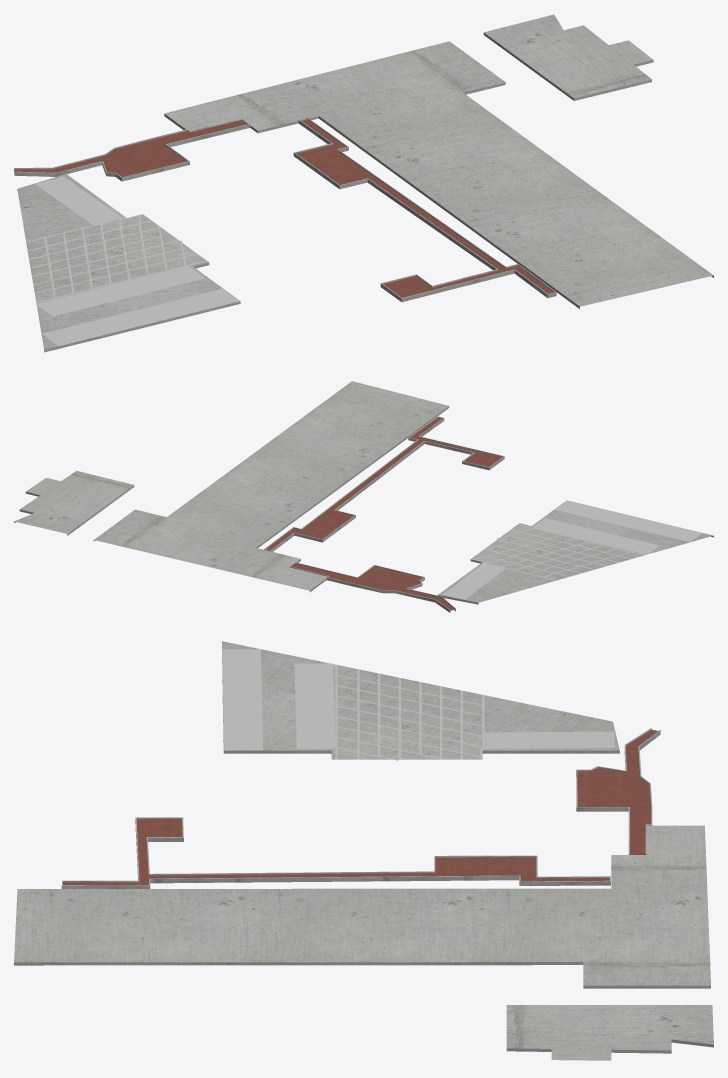
File: road_p10_06.fbx
3 views of the same model, one above another, from view 1: azimuth 30°, elevation 25°; view 2: azimuth 150°, elevation 25°; view 3: azimuth 270°, elevation 25° (orthographic). The views are drawn at different scales.
Parts seen in each view (by area): view 1: road_p10_06; view 2: road_p10_06; view 3: road_p10_06.
Part boxes in pixels (x1=…): road_p10_06: x1=14, y1=14, x2=713, y2=352; road_p10_06: x1=14, y1=381, x2=713, y2=612; road_p10_06: x1=14, y1=641, x2=713, y2=1060.
Size of the model in its own units: 14839 by 70.19 by 10460.
